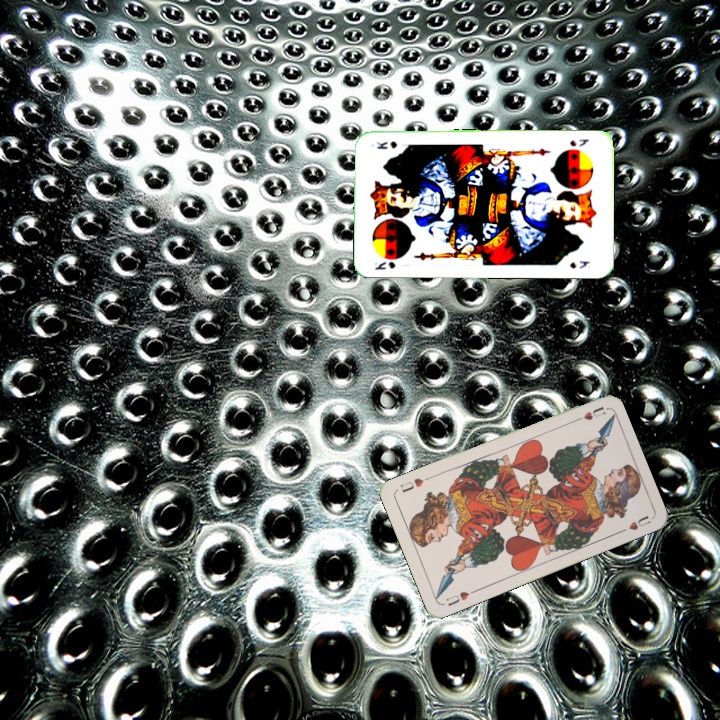HU: (569, 403, 608, 425), (442, 586, 478, 609)
SK: (371, 258, 398, 272), (566, 135, 592, 149)
